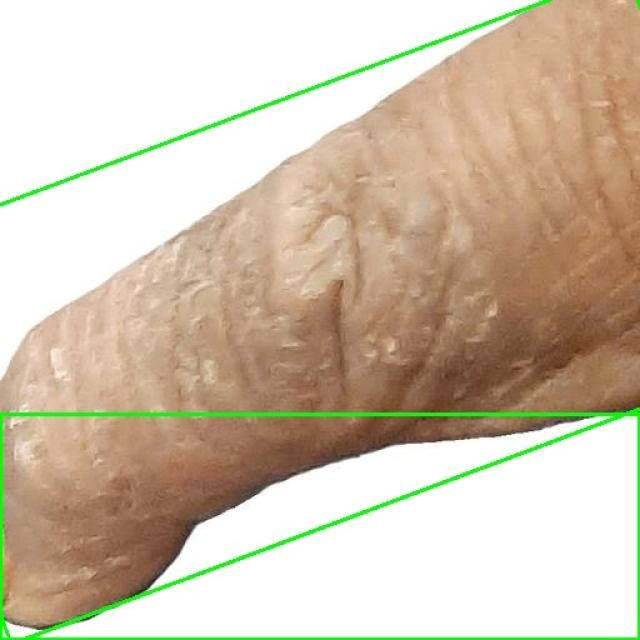Eczema: (0, 0, 640, 640), (0, 414, 639, 639)
